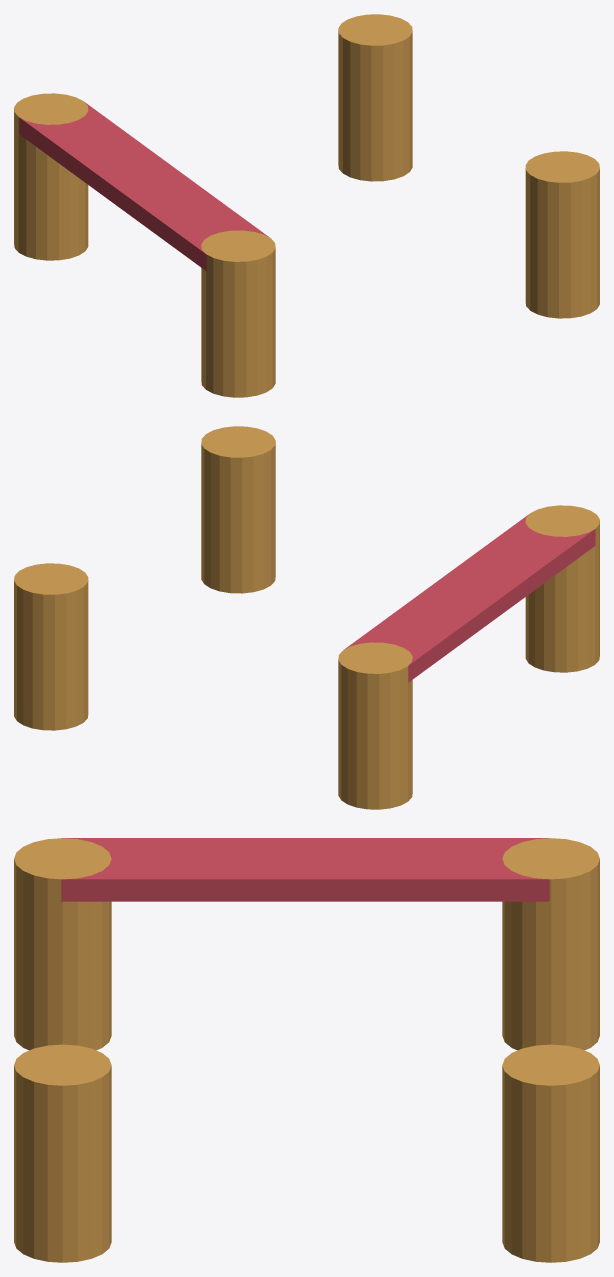
Rendered from test-separated.glb.
3 renders of one model, top to bottom at view 1: azimuth 30°, elevation 25°; view 2: azimuth 150°, elevation 25°; view 3: azimuth 270°, elevation 25°, orthographic. The views are drawn at different scales.
Visible parts, largest first — view 1: Mesh_Mesh_head_geo.001_lambert2SG.001; view 2: Mesh_Mesh_head_geo.001_lambert2SG.001; view 3: Mesh_Mesh_head_geo.001_lambert2SG.001.
Part boxes in pixels (box(x1,y1,x2,y2)): Mesh_Mesh_head_geo.001_lambert2SG.001: box(14, 14, 599, 397); Mesh_Mesh_head_geo.001_lambert2SG.001: box(14, 426, 599, 809); Mesh_Mesh_head_geo.001_lambert2SG.001: box(14, 838, 599, 1262).
Size of the model in its own units: 120 by 40 by 120.
